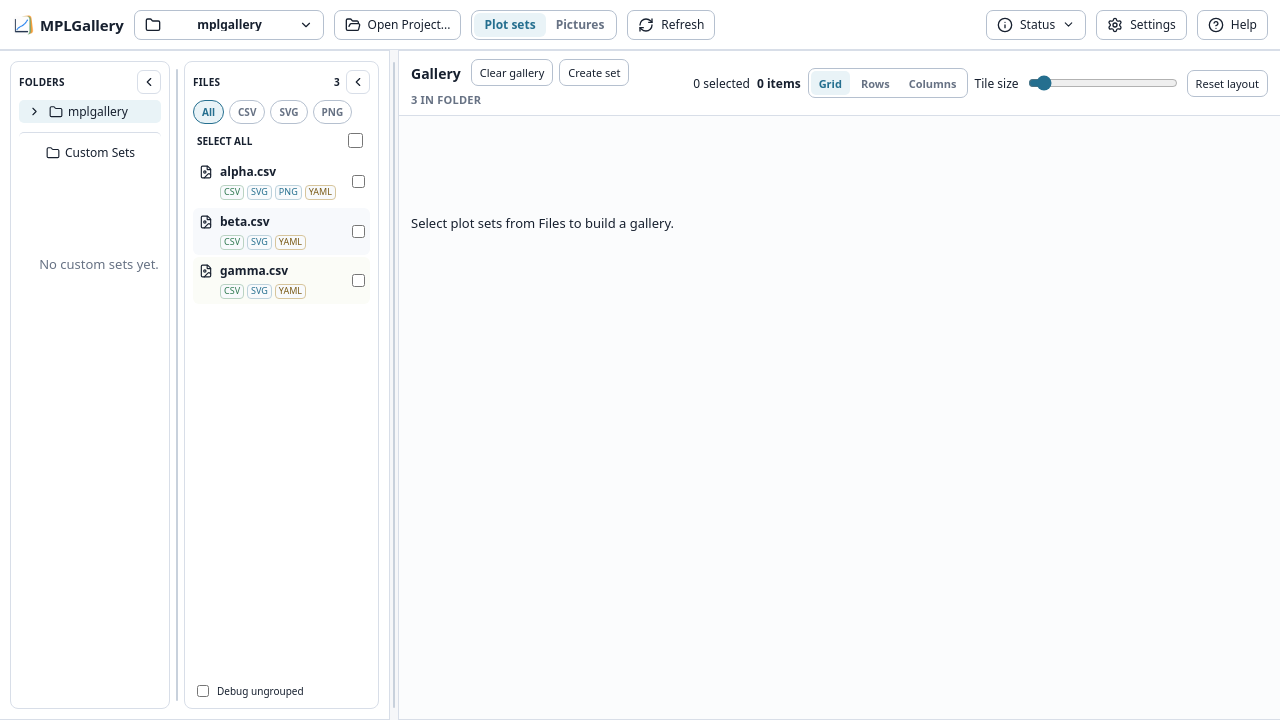
Test: App explorer › shows only top-level roots with PNG/SVG plot sets and preserves nested folders below them
Click the button named "Expand mplgallery".
click(31, 112)  # box [22,102,40,122]
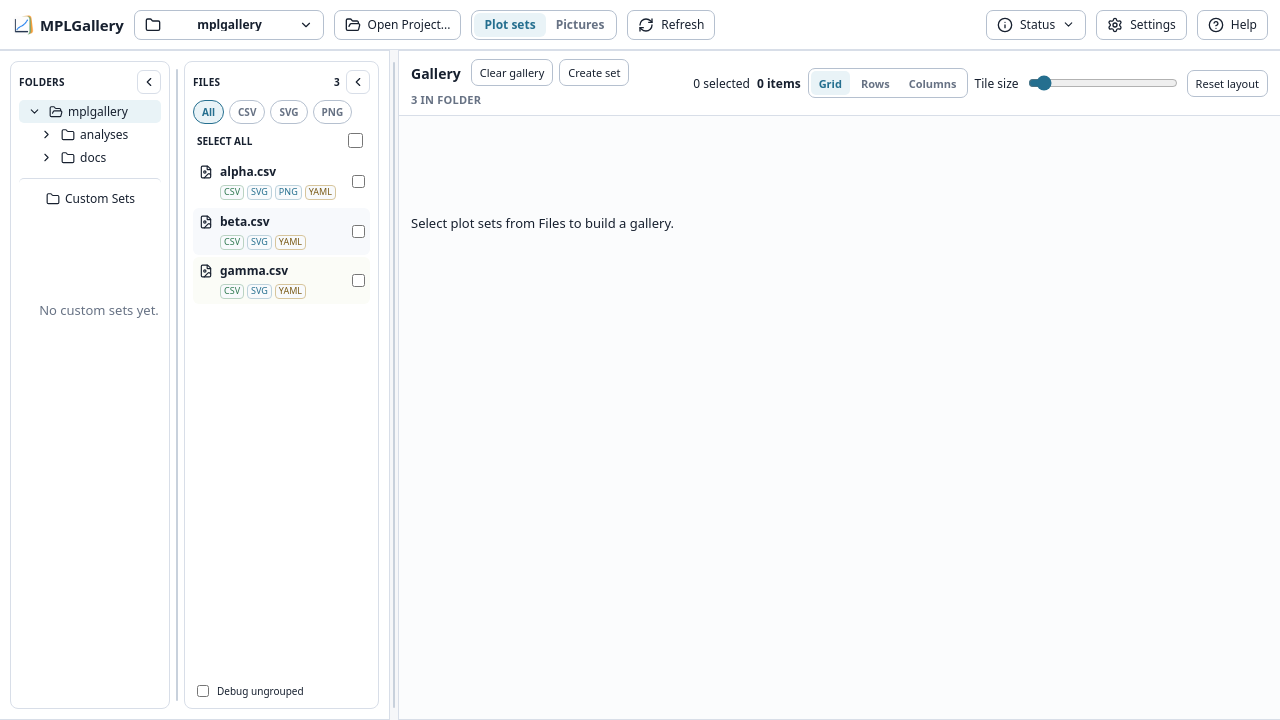
Now the text "analyses" is shown, box [80,126,128,143]
Now the text "docs" is shown, box [80,149,106,166]
Click the button named "Expand analyses".
click(43, 134)  # box [34,124,52,144]
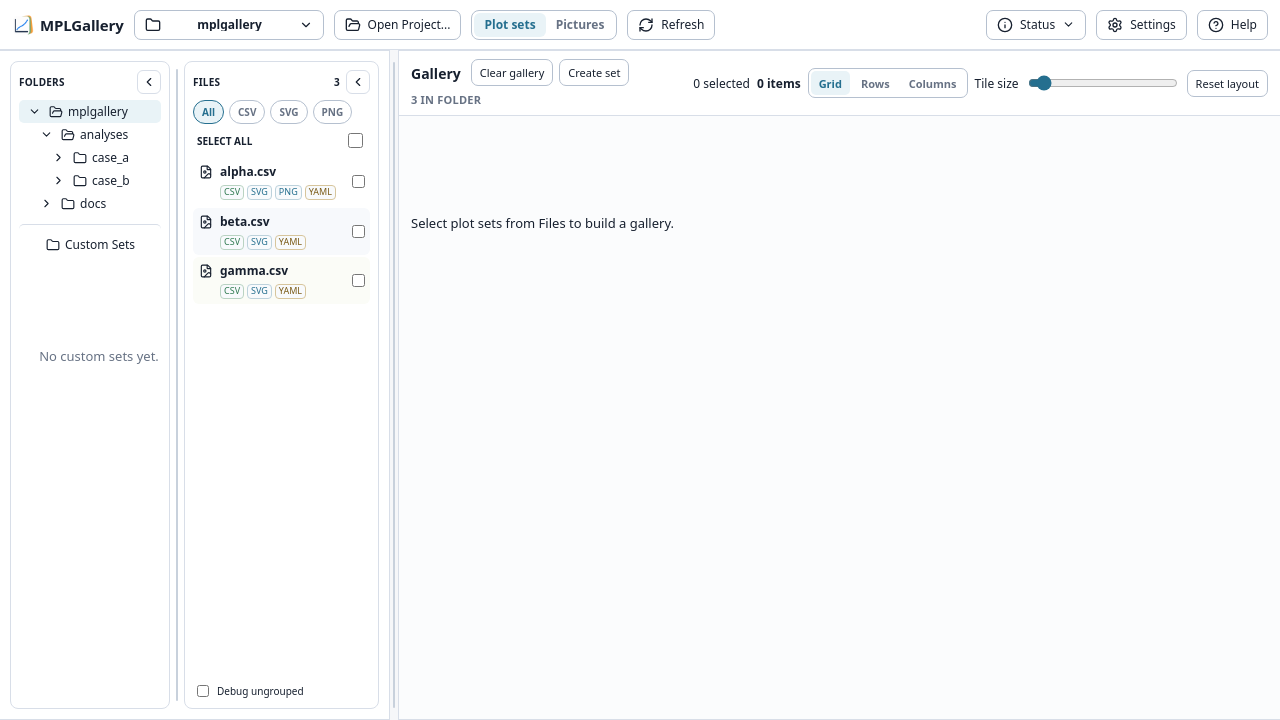
Now the text "case_a" is shown, box [92,149,129,166]
Now the text "case_b" is shown, box [92,172,130,189]
